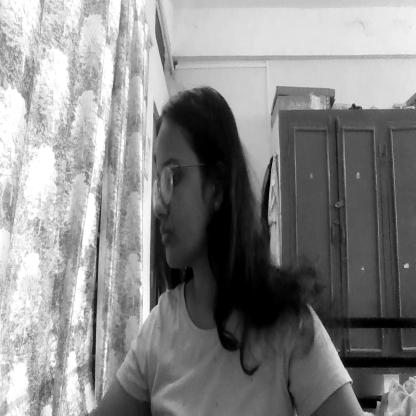Distracted: (153, 119, 228, 276)
